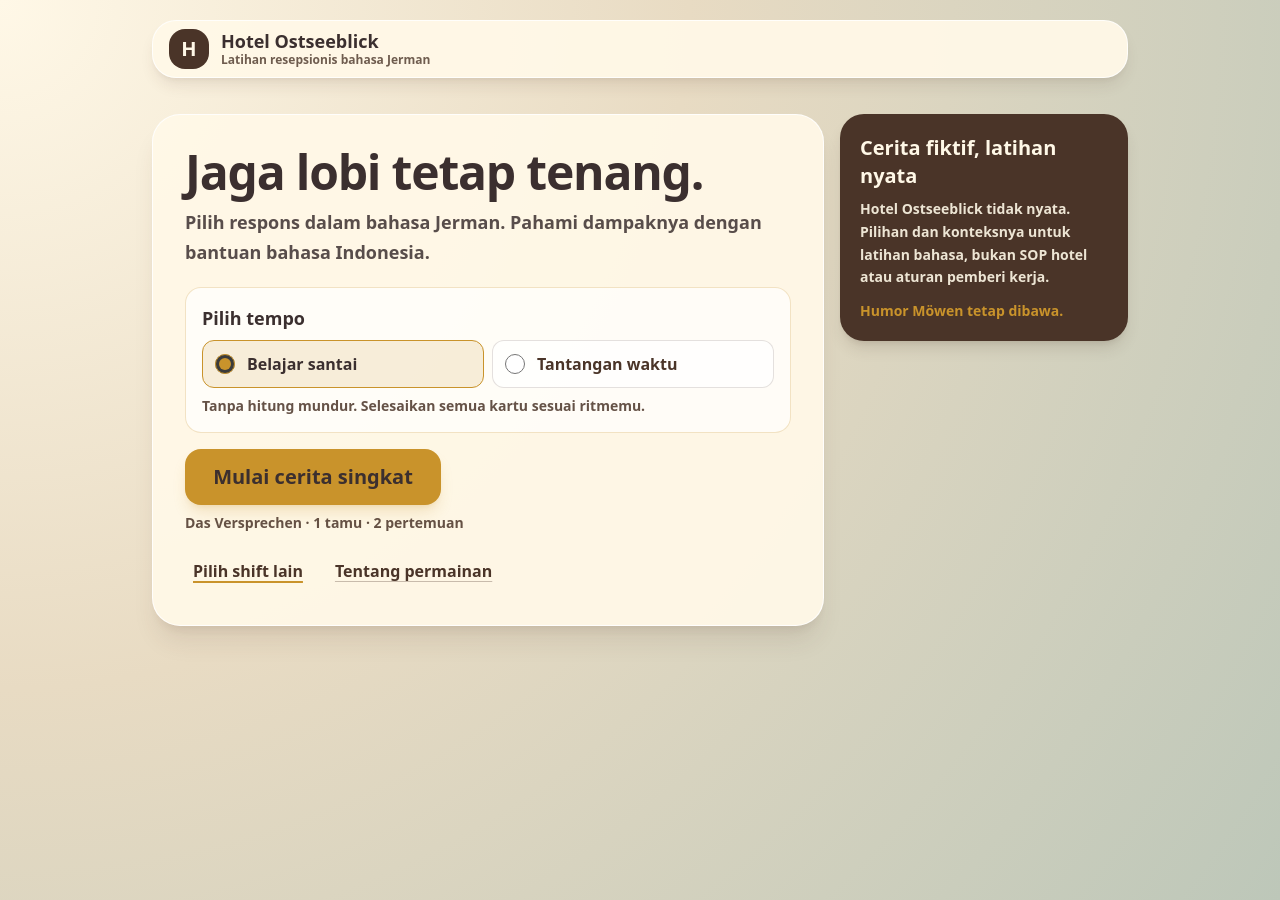
playable random shifts in the app › shows only factual invoice notes before and after the selected response
This screenshot has width=1280, height=900.
Click the button "Pilih shift lain": (248, 571) [185,549,311,593]
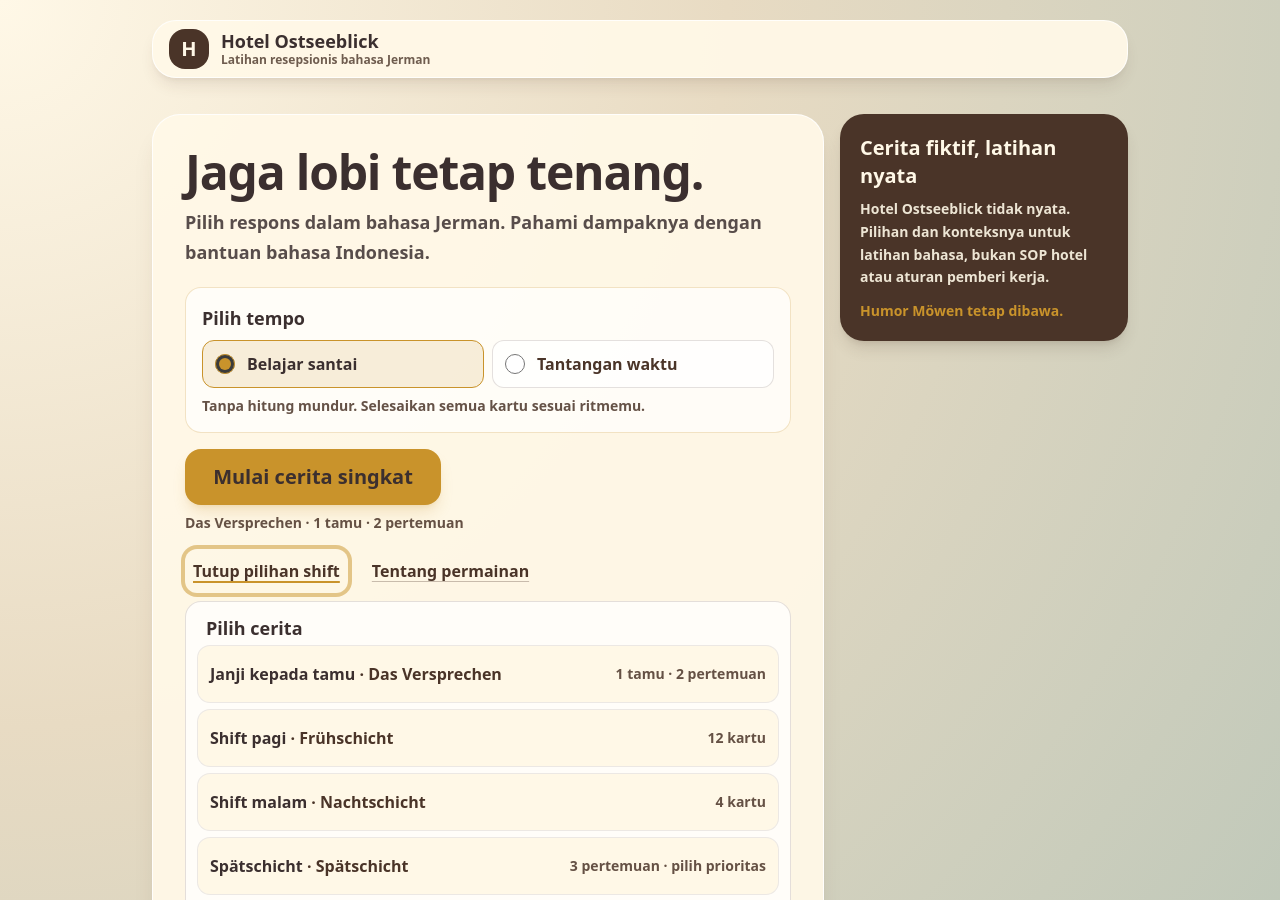
Click the button "Shift pagi · Frühschicht 12 kartu": (248, 738) [198,710,778,766]
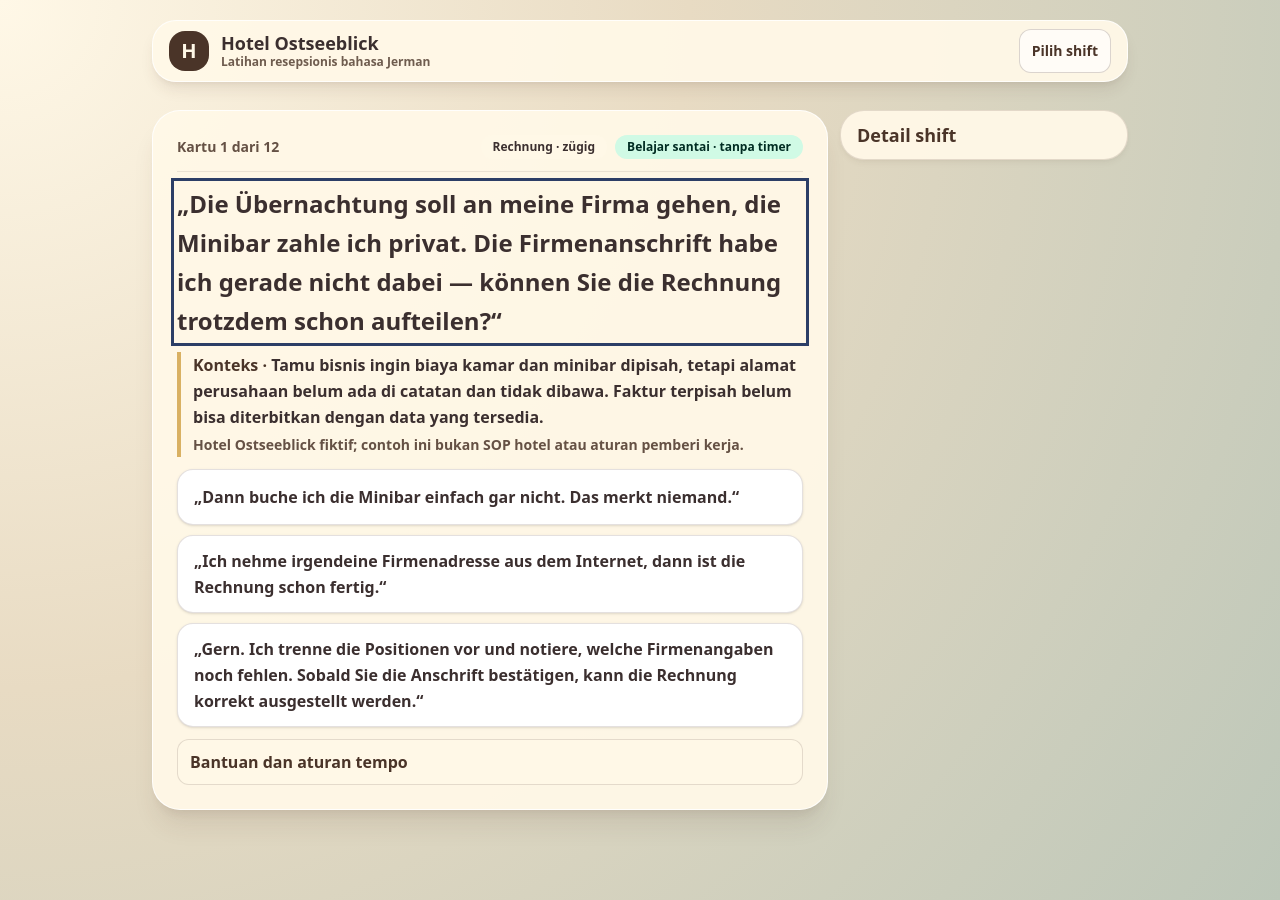
Result: the element that starts with "Kartu 1 dari 12" has attribute data-scenario-id="firmenrechnung-split-fehlende-daten" at [152,110,828,810]
Click the heading "Detail shift": (907, 135) [857,123,956,147]
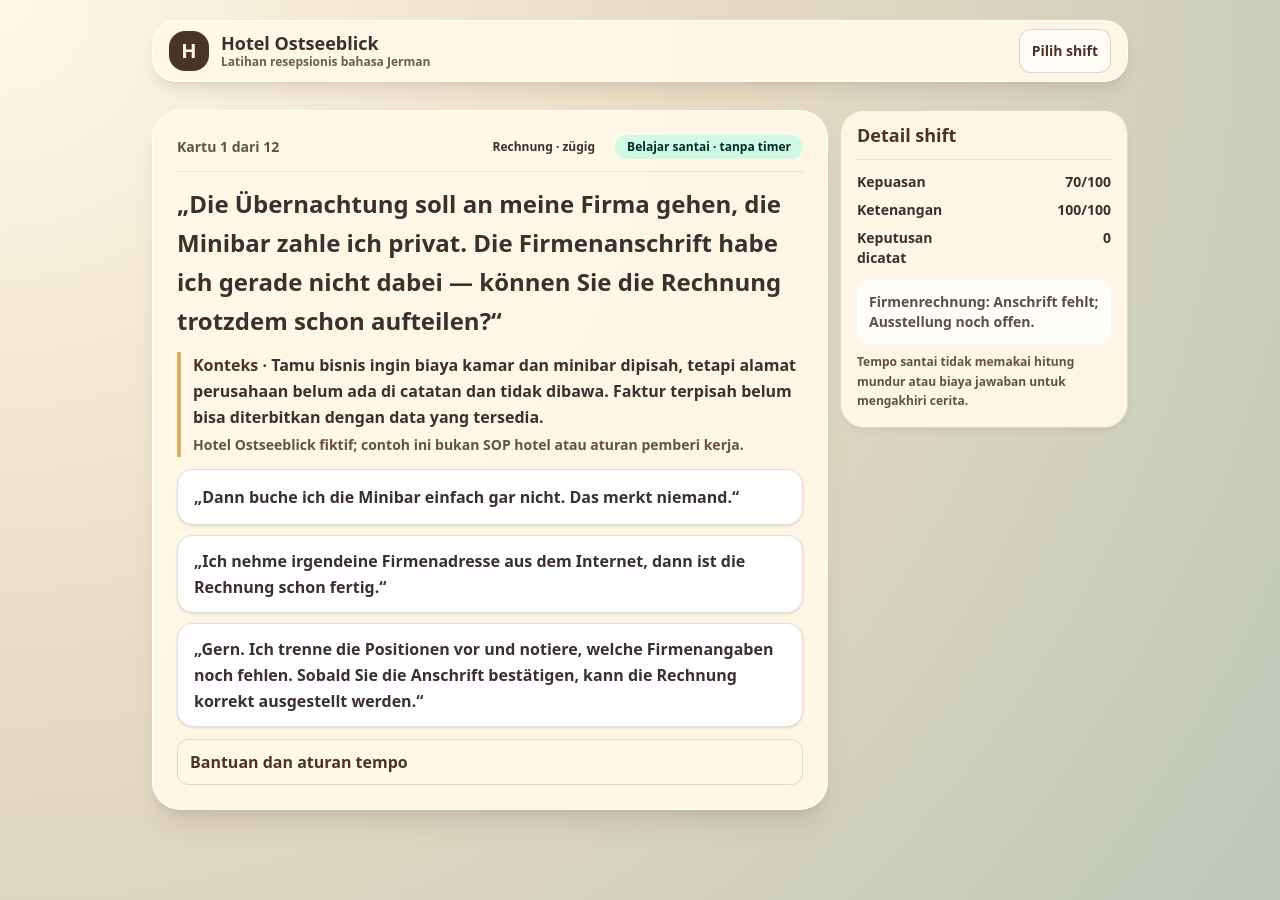
Result: the text "Firmenrechnung: Anschrift fehlt; Ausstellung noch offen." is shown at [857,280,1111,344]
Click the 4th button: (490, 675) [177,623,803,727]
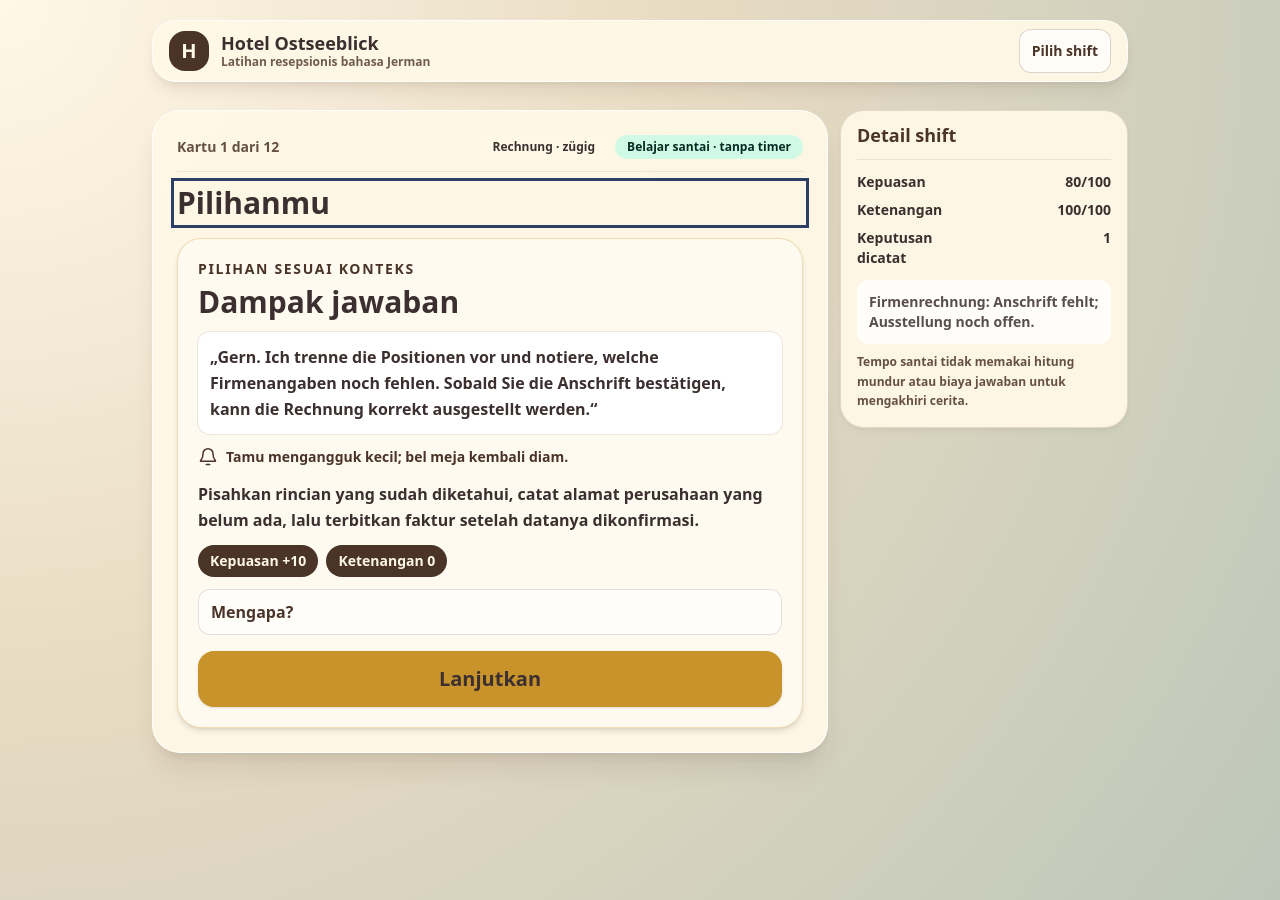
Click the heading "Mengapa?": (252, 612) [211,601,293,623]
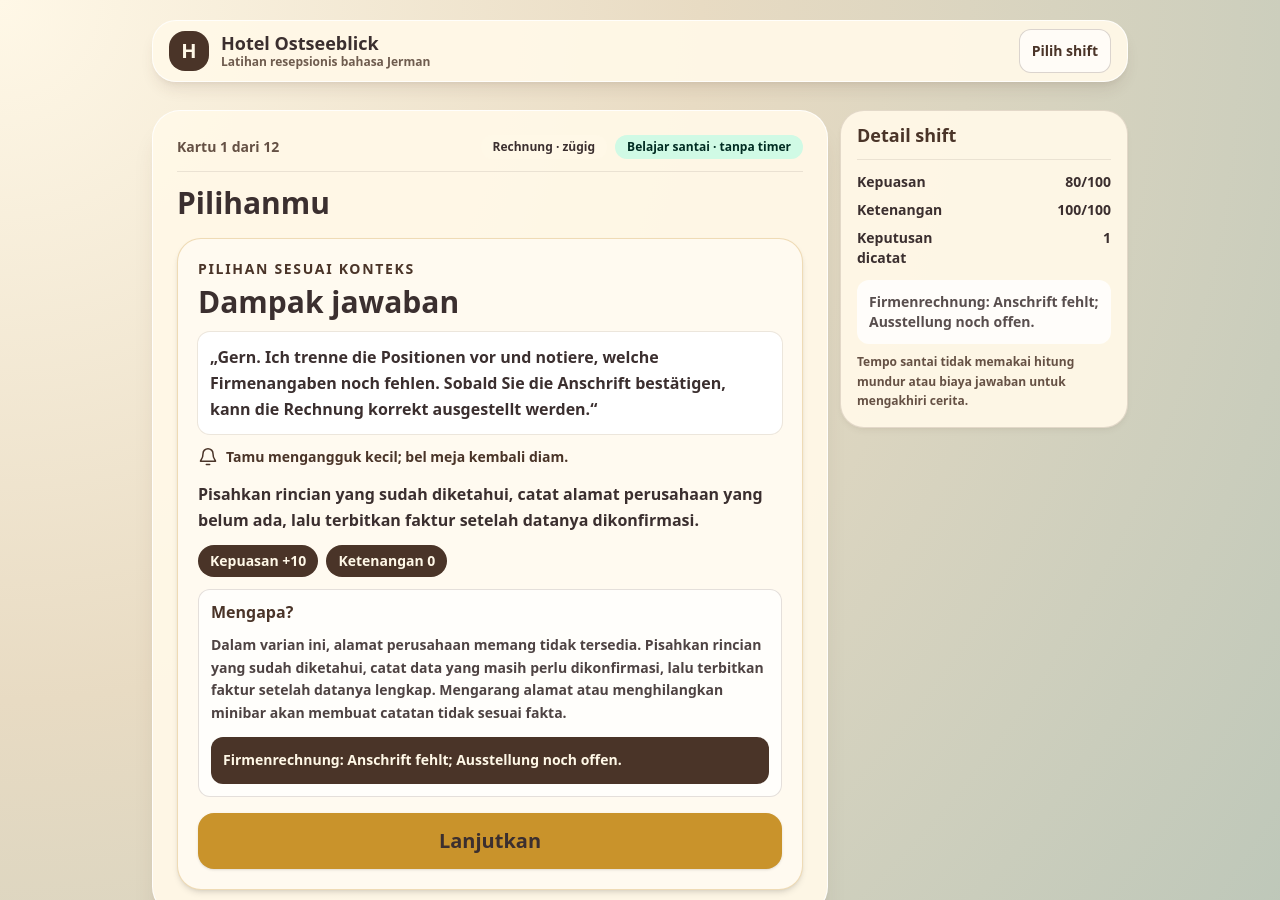
Result: the text "Firmenrechnung: Anschrift fehlt; Ausstellung noch offen." below "Mengapa?" is shown at [223,750,622,769]
